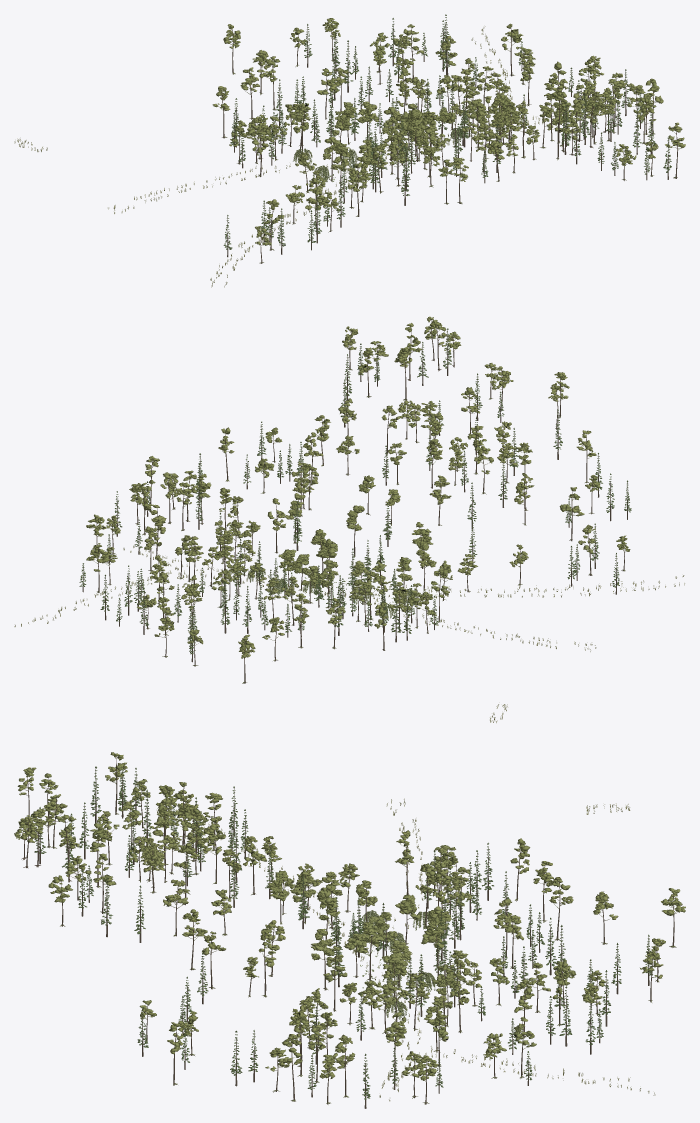
The model's file is stauwehr-gruen.glb.
3 renders of one model, top to bottom at view 1: azimuth 30°, elevation 25°; view 2: azimuth 150°, elevation 25°; view 3: azimuth 270°, elevation 25°, orthographic. The views are drawn at different scales.
Parts seen in each view (by area): view 1: WaldLaub, WaldHolz, WaldNadeln, Schilf; view 2: WaldLaub, WaldHolz, WaldNadeln, Schilf; view 3: WaldLaub, WaldHolz, WaldNadeln, Schilf.
Boxes of the visible parts, x1=… form: WaldLaub: x1=212, y1=18, x2=685, y2=245; WaldHolz: x1=218, y1=22, x2=680, y2=263; WaldNadeln: x1=223, y1=14, x2=671, y2=249; Schilf: x1=14, y1=26, x2=598, y2=287; WaldLaub: x1=86, y1=316, x2=630, y2=658; WaldHolz: x1=82, y1=319, x2=627, y2=683; WaldNadeln: x1=79, y1=328, x2=631, y2=654; Schilf: x1=14, y1=545, x2=684, y2=722; WaldLaub: x1=14, y1=752, x2=685, y2=1080; WaldHolz: x1=21, y1=757, x2=677, y2=1108; WaldNadeln: x1=34, y1=766, x2=653, y2=1099; Schilf: x1=157, y1=798, x2=655, y2=1101.
Size of the model in its own units: 308 by 97.73 by 301.
